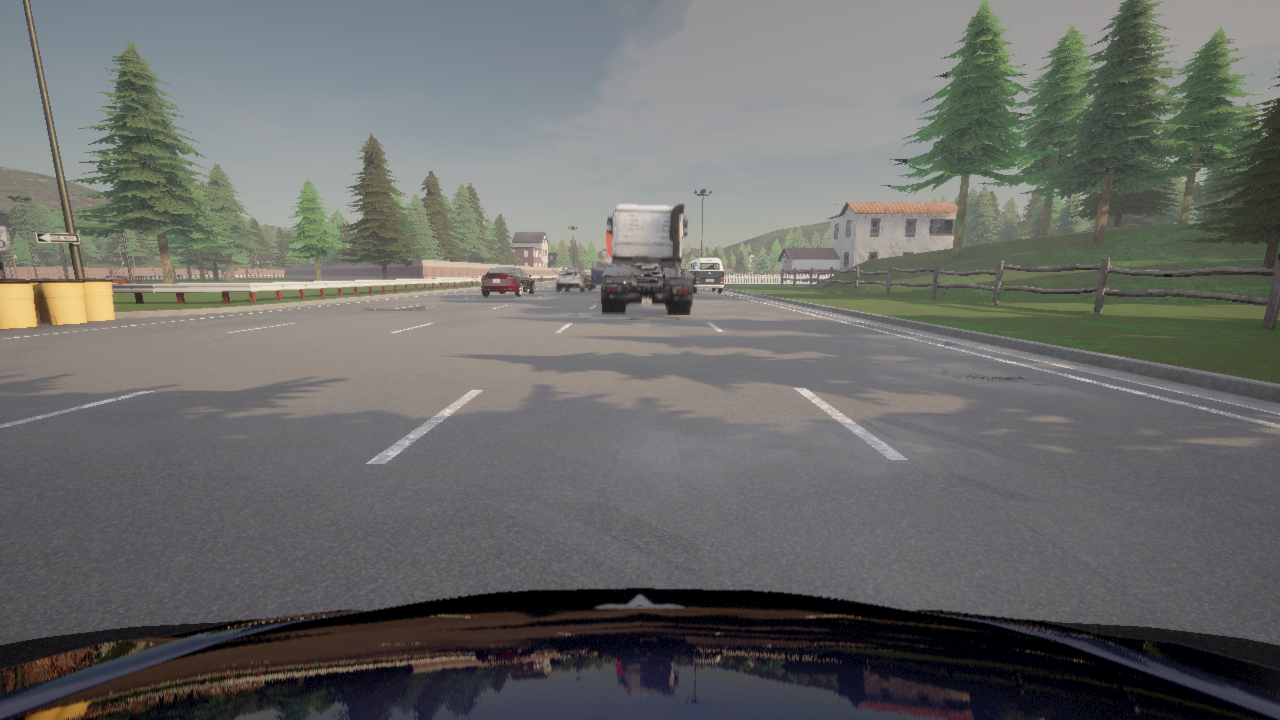cyclist: (0, 588, 1279, 719), (601, 204, 693, 314), (481, 267, 534, 296), (556, 268, 591, 291), (590, 259, 606, 288), (606, 229, 611, 266), (697, 272, 710, 282), (732, 272, 734, 273)
